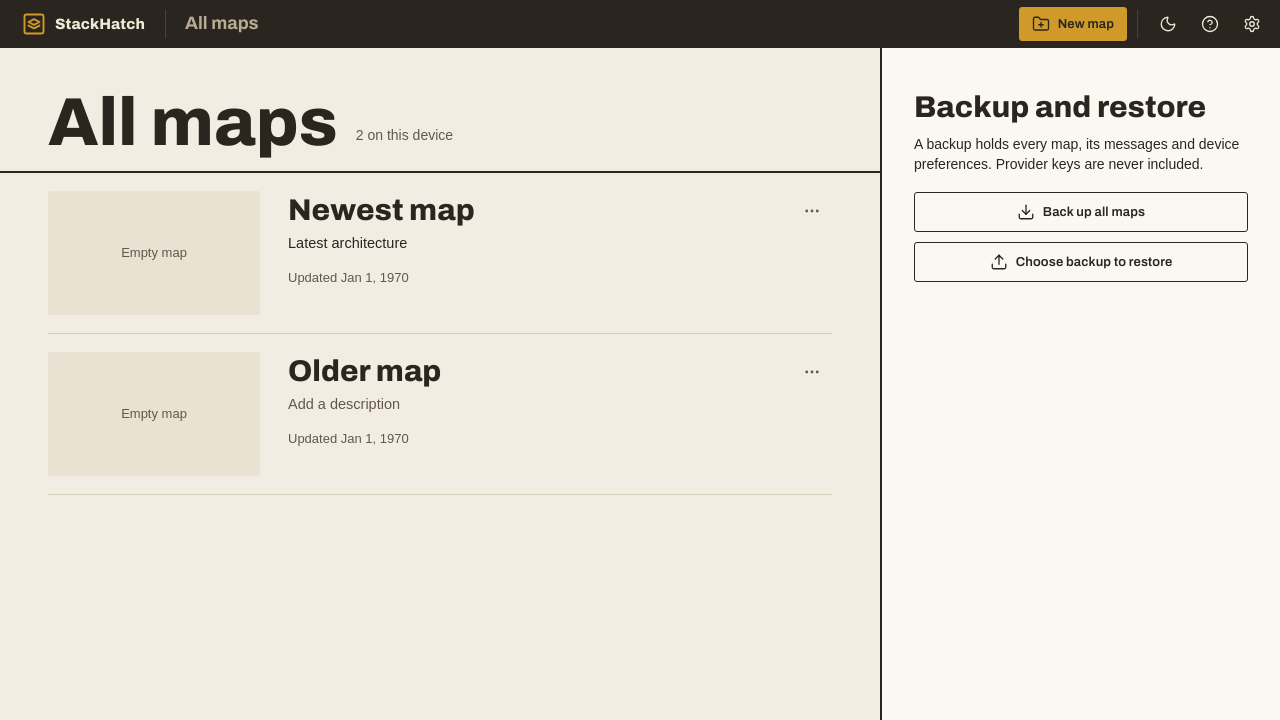
AllMapsPage › edits a description inline and saves it with Enter
Click the button with aria-label "Edit description for Older map": (344, 404) x1=288 y1=392 x2=400 y2=417
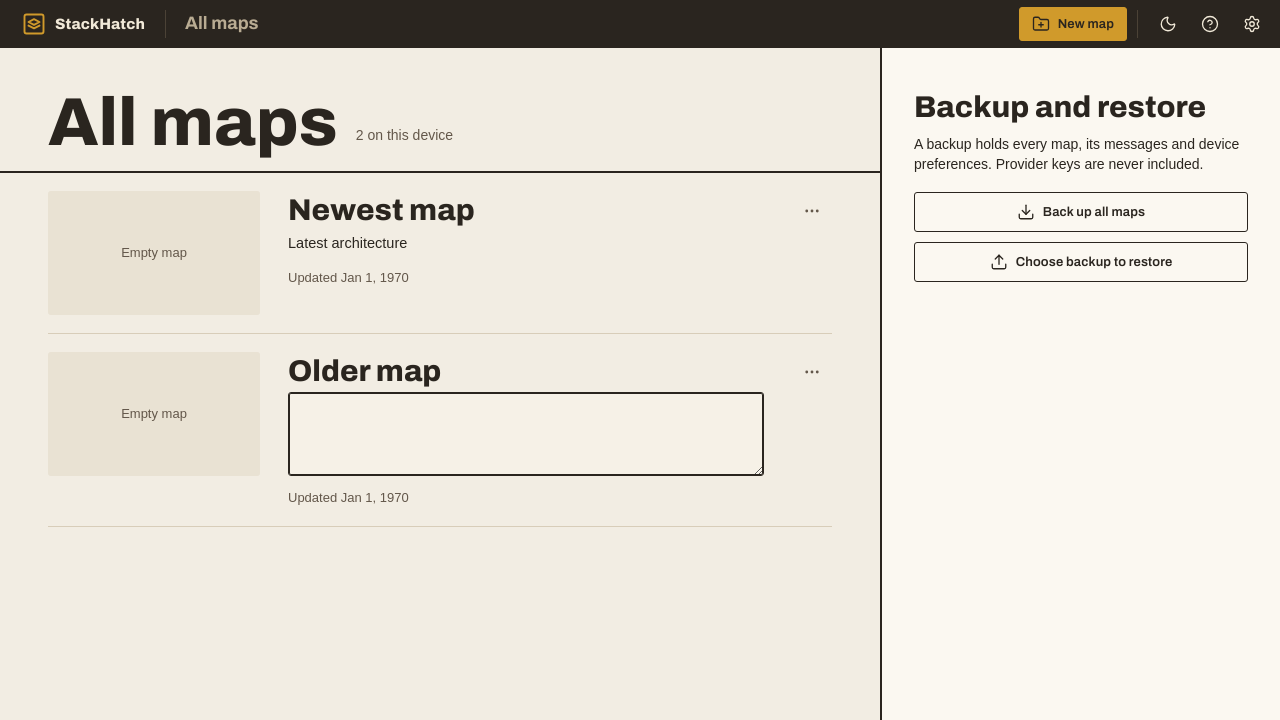
In the text box named "Description for Older map": (526, 434) x1=288 y1=392 x2=764 y2=476, type "Legacy architecture"
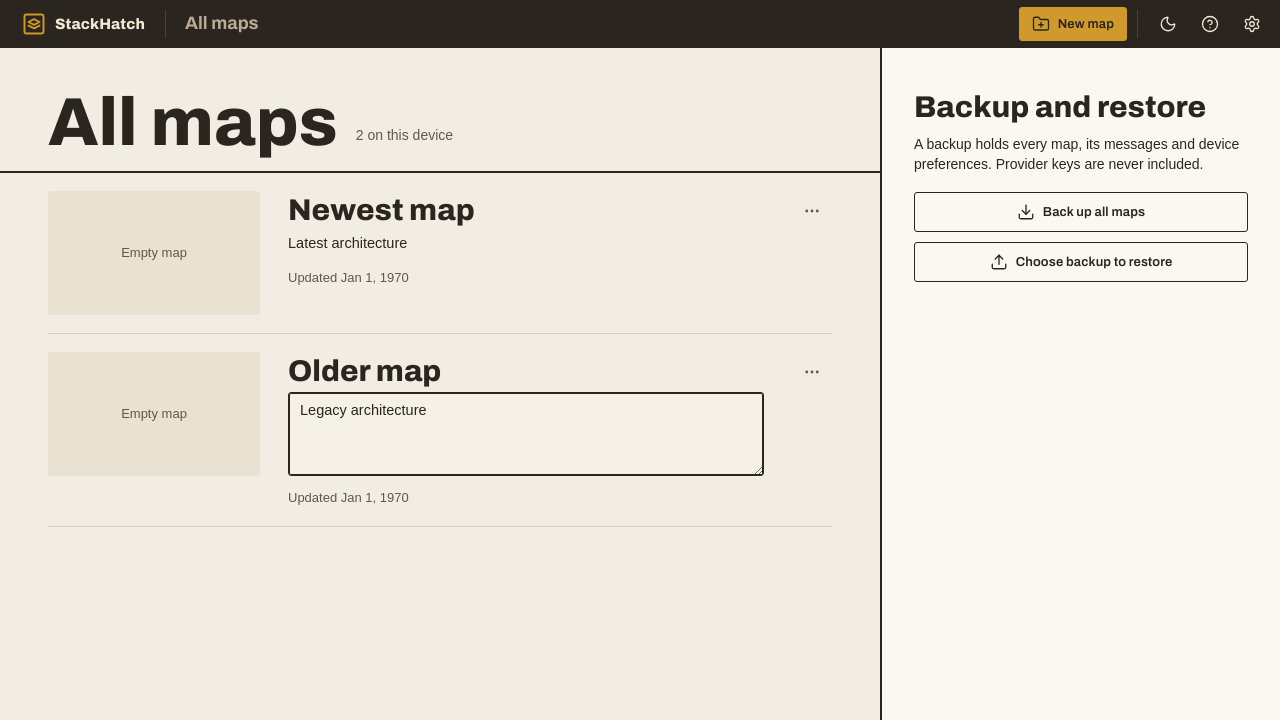
Press Enter in the text box named "Description for Older map", box x1=288 y1=392 x2=764 y2=476
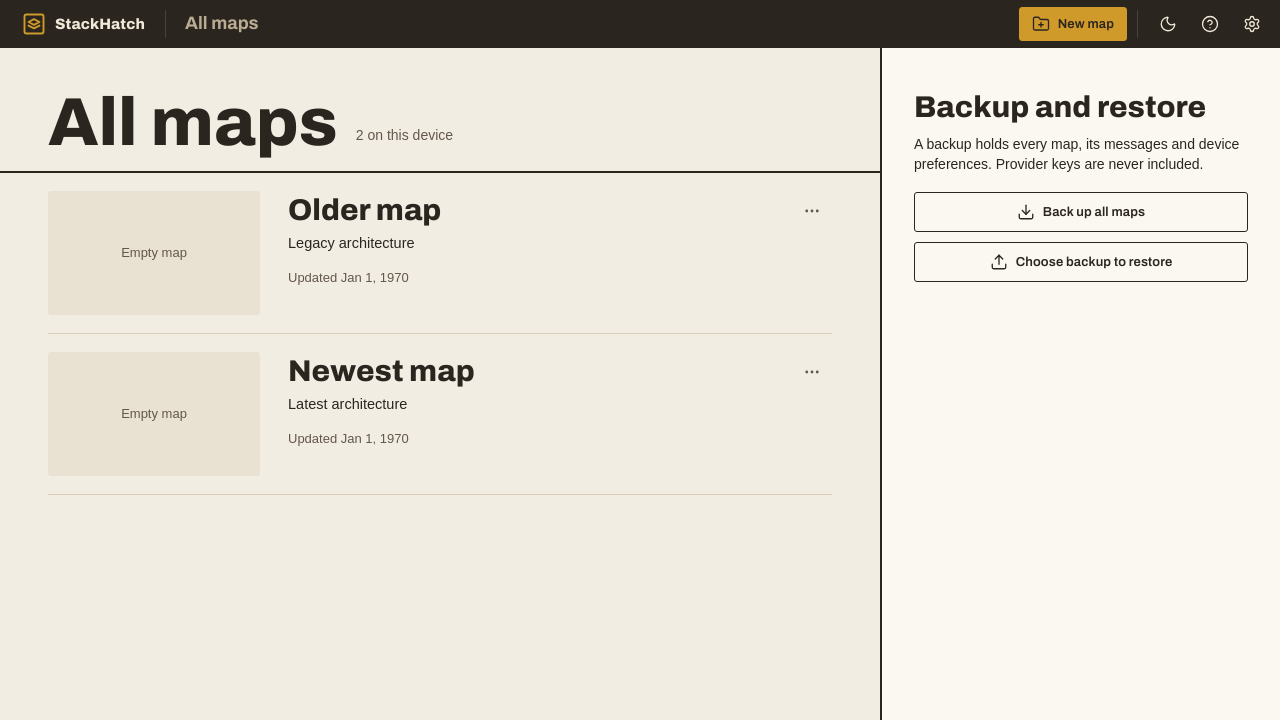
Now the button with aria-label "Edit description for Older map" reads "Legacy architecture", box x1=288 y1=231 x2=414 y2=256
